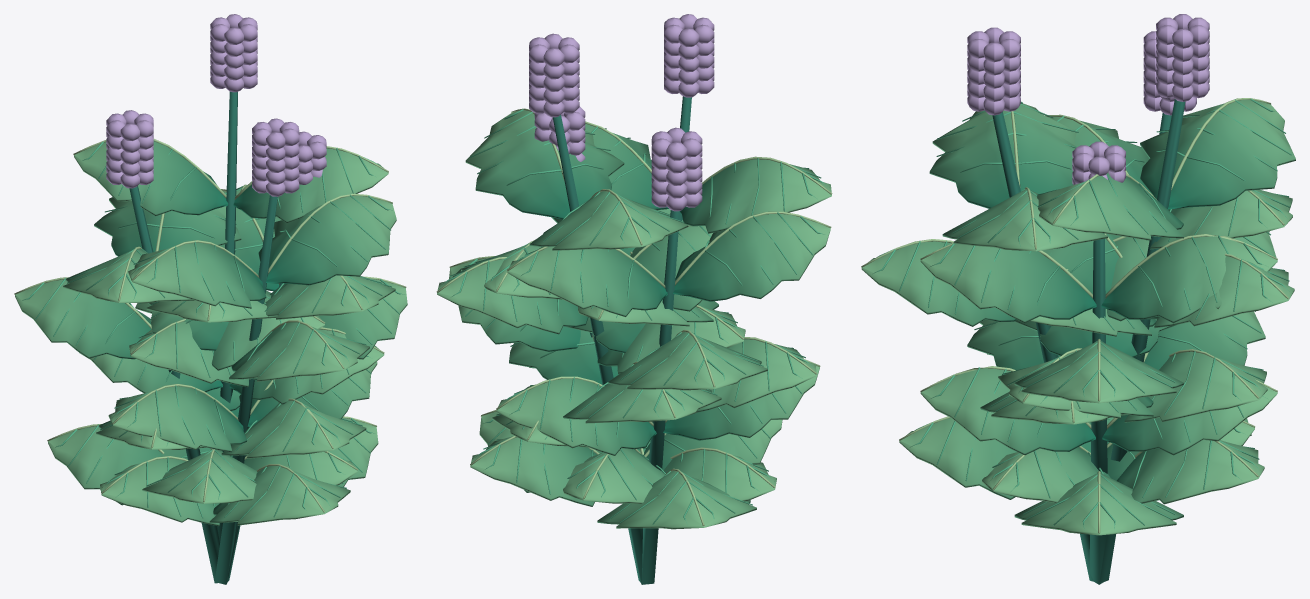
The model's file is enchanted-mint.glb.
3 renders of one model, left to right at view 1: azimuth 30°, elevation 25°; view 2: azimuth 150°, elevation 25°; view 3: azimuth 270°, elevation 25°, orthographic. The views are drawn at different scales.
Parts seen in each view (by area): view 1: enchanted-mint-sculpted-details; view 2: enchanted-mint-sculpted-details; view 3: enchanted-mint-sculpted-details.
Boxes of the visible parts, x1=… form: enchanted-mint-sculpted-details: x1=14, y1=14, x2=407, y2=584; enchanted-mint-sculpted-details: x1=436, y1=14, x2=832, y2=584; enchanted-mint-sculpted-details: x1=861, y1=14, x2=1295, y2=584.
Size of the model in its own units: 0.6731 by 1 by 0.673.
